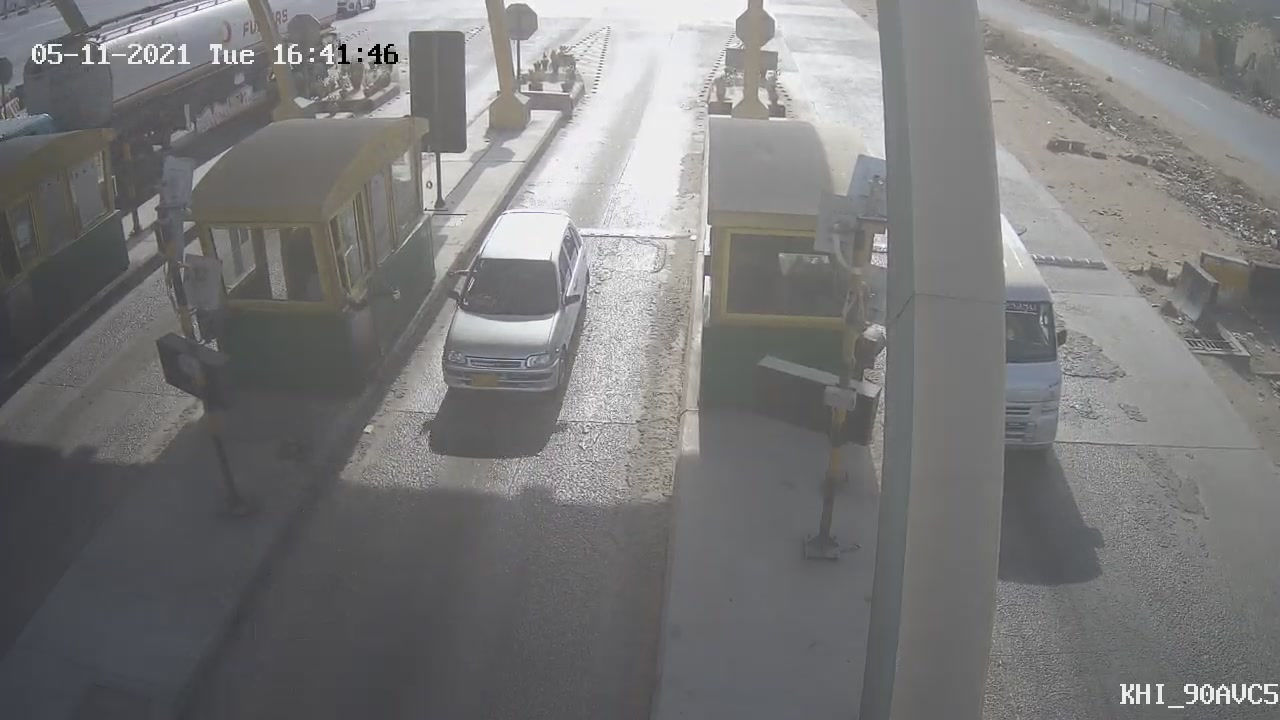F1: (430, 196, 603, 416)
